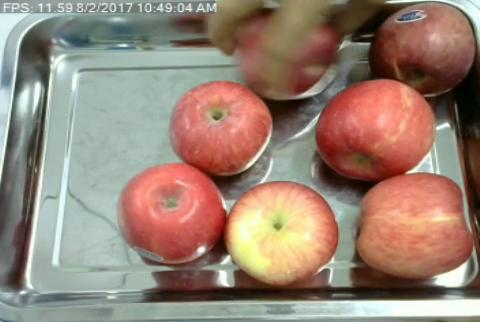apple: (359, 172, 473, 275), (228, 179, 338, 285), (315, 79, 435, 176), (116, 164, 226, 263), (171, 82, 269, 176), (370, 4, 473, 93)
